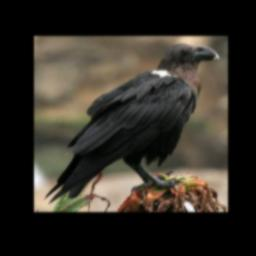Crow: (42, 42, 217, 204)
